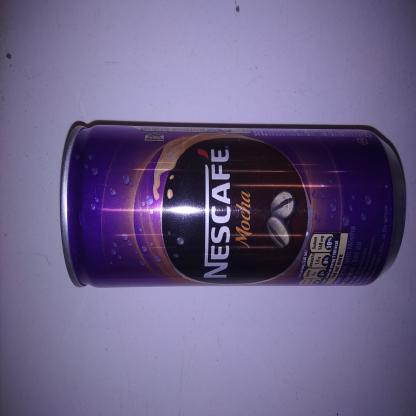can: (58, 115, 410, 289)
